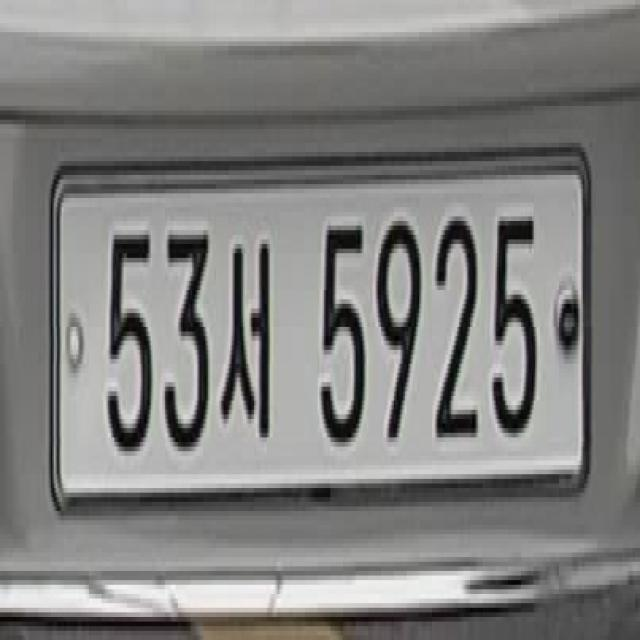2: (435, 221, 486, 442)
3: (160, 216, 210, 456)
5: (313, 189, 375, 479), (491, 189, 551, 465), (105, 221, 152, 460)
9: (375, 202, 435, 483)
license_plate: (27, 147, 594, 539)
seo: (216, 234, 286, 446)
